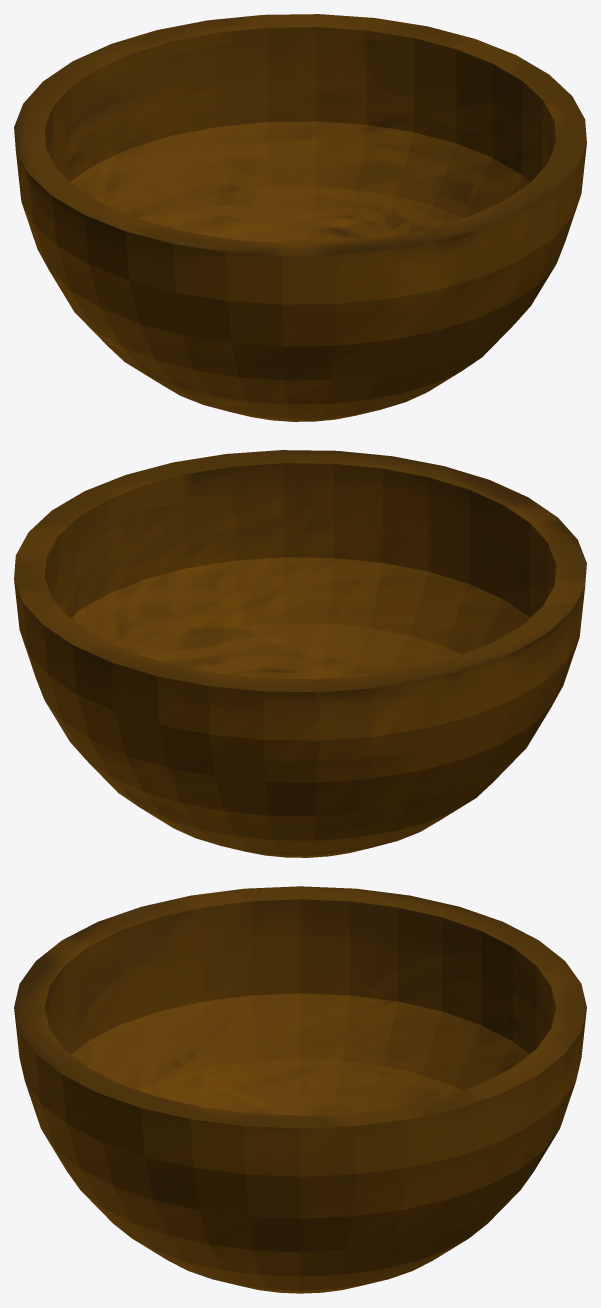
The model's file is mortar.fbx.
3 views of the same model, one above another, from view 1: azimuth 30°, elevation 25°; view 2: azimuth 150°, elevation 25°; view 3: azimuth 270°, elevation 25° (orthographic).
Parts seen in each view (by area): view 1: Mortar; view 2: Mortar; view 3: Mortar.
Boxes of the visible parts, x1,y1,x2,y2 form: Mortar: (14, 14, 586, 421); Mortar: (14, 450, 586, 857); Mortar: (14, 886, 586, 1293).
Size of the model in its own units: 200 by 100 by 200.
1 material, 1 textured.
